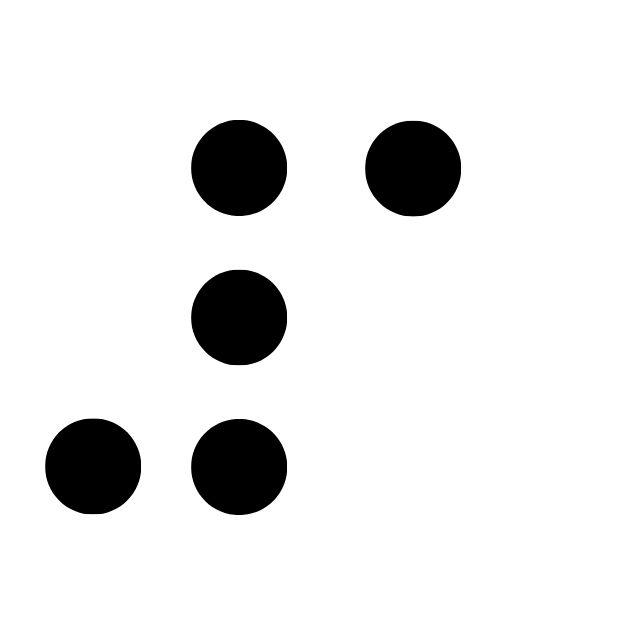1: (363, 120, 605, 517)
number: (45, 118, 288, 515)
